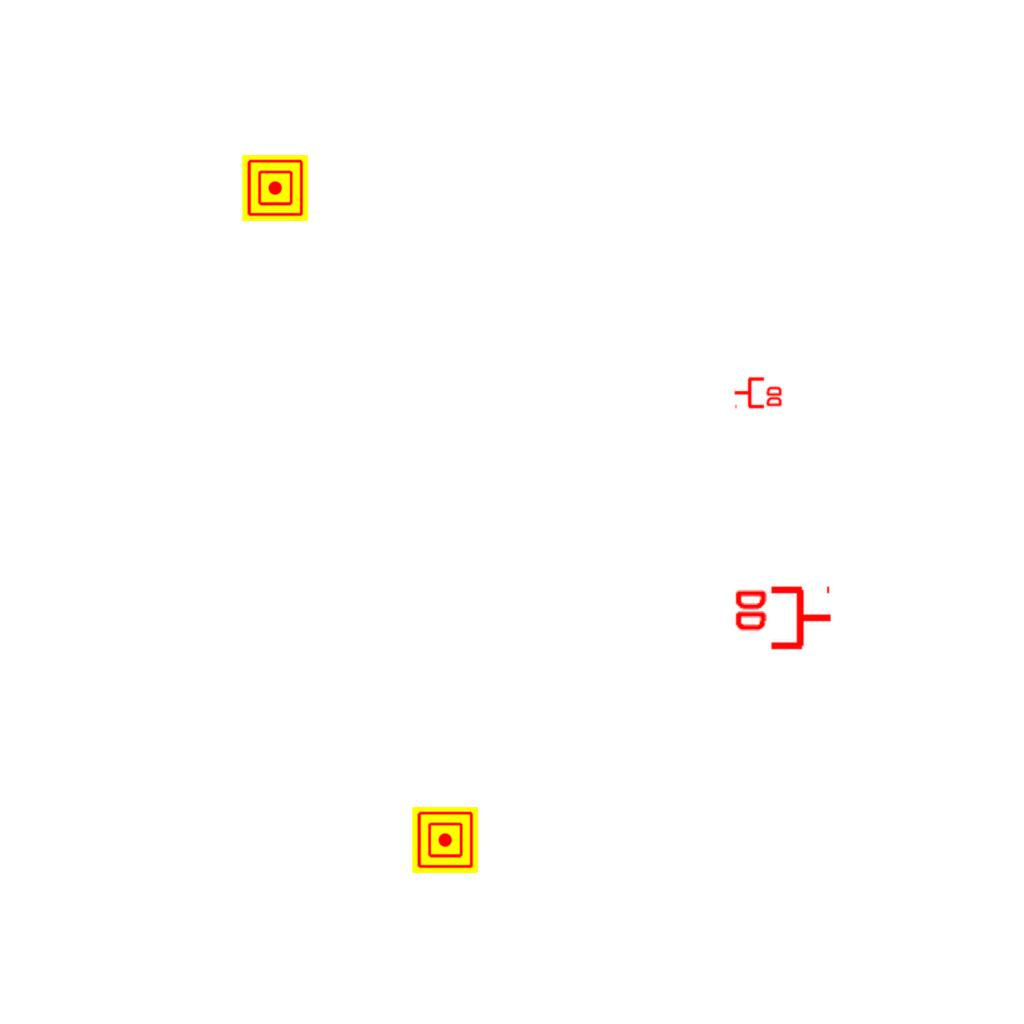Datenanschluss_zweifach: (731, 585, 834, 654), (733, 375, 784, 409)
NAM-Nichtautomatischer_Melder: (242, 155, 308, 221), (412, 807, 478, 873)
